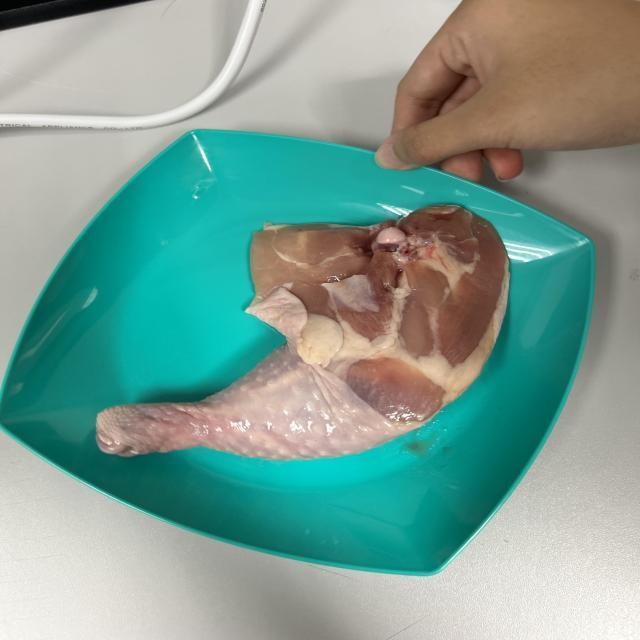quater: (90, 219, 510, 466)
